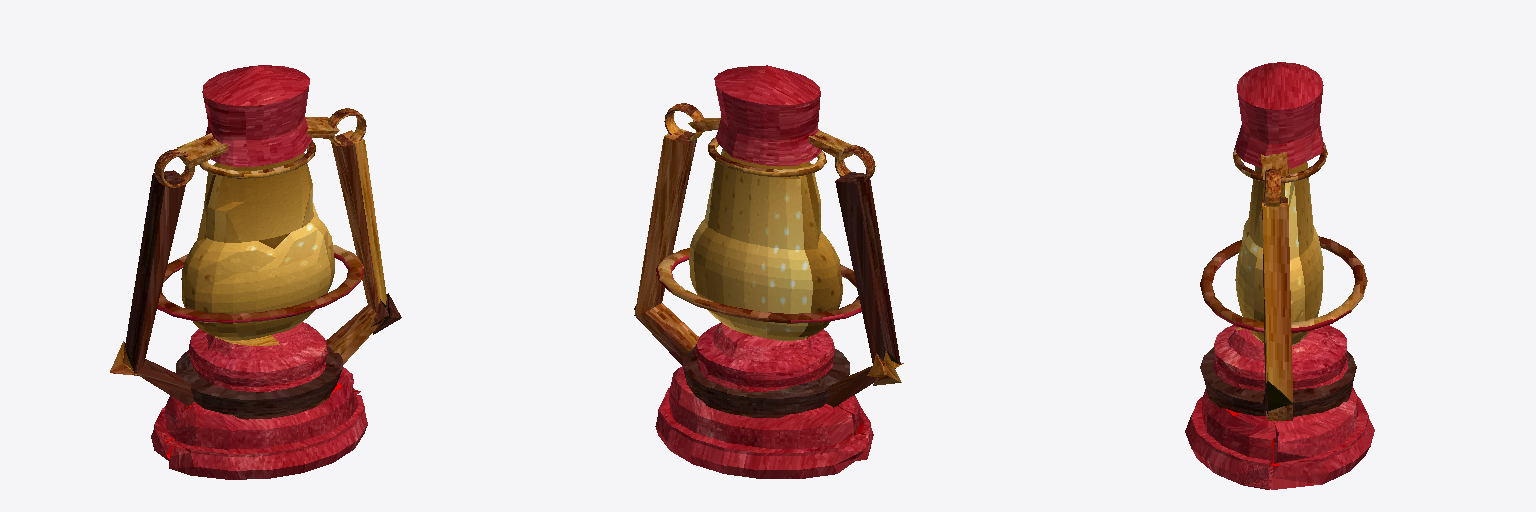
3 renders of one model, left to right at view 1: azimuth 30°, elevation 25°; view 2: azimuth 150°, elevation 25°; view 3: azimuth 270°, elevation 25°, orthographic.
Visible parts, largest first — view 1: bottomoflight inbetween handle1 handle4 glass2, inbetween base2, bottomoflight inbetween handle1 handle4 glass2 metal2 metal3 han, bottomoflight inbetween, bottomoflight inbetween handle1, bottomoflight inbetween handle1 handle4, inbetween, bottomoflight inbetween handle1 handle4 glass2 metal2, bottomoflight inbetween handle1 handle4 glass2 metal2 metal3; view 2: bottomoflight inbetween handle1 handle4 glass2, inbetween base2, bottomoflight inbetween handle1 handle4 glass2 metal2 metal3 han, bottomoflight inbetween handle1, bottomoflight inbetween, bottomoflight inbetween handle1 handle4, inbetween, bottomoflight inbetween handle1 handle4 glass2 metal2, bottomoflight inbetween handle1 handle4 glass2 metal2 metal3; view 3: inbetween base2, bottomoflight inbetween handle1 handle4 glass2 metal2 metal3 han, bottomoflight inbetween handle1 handle4 glass2, bottomoflight inbetween handle1 handle4, bottomoflight inbetween, inbetween, bottomoflight inbetween handle1 handle4 glass2 metal2, bottomoflight inbetween handle1 handle4 glass2 metal2 metal3.
Boxes of the visible parts, <box> form: bottomoflight inbetween handle1 handle4 glass2: <box>181,153,334,340</box>; inbetween base2: <box>151,367,367,479</box>; bottomoflight inbetween handle1 handle4 glass2 metal2 metal3 han: <box>154,65,366,188</box>; bottomoflight inbetween: <box>188,322,327,391</box>; bottomoflight inbetween handle1: <box>110,170,194,405</box>; bottomoflight inbetween handle1 handle4: <box>326,130,401,364</box>; inbetween: <box>176,346,342,419</box>; bottomoflight inbetween handle1 handle4 glass2 metal2: <box>157,245,363,323</box>; bottomoflight inbetween handle1 handle4 glass2 metal2 metal3: <box>199,141,315,178</box>; bottomoflight inbetween handle1 handle4 glass2: <box>689,149,842,340</box>; inbetween base2: <box>655,366,873,478</box>; bottomoflight inbetween handle1 handle4 glass2 metal2 metal3 han: <box>664,65,875,181</box>; bottomoflight inbetween handle1: <box>827,172,903,407</box>; bottomoflight inbetween: <box>695,322,834,391</box>; bottomoflight inbetween handle1 handle4: <box>634,128,698,365</box>; inbetween: <box>683,346,849,418</box>; bottomoflight inbetween handle1 handle4 glass2 metal2: <box>656,248,861,323</box>; bottomoflight inbetween handle1 handle4 glass2 metal2 metal3: <box>708,137,826,176</box>; inbetween base2: <box>1185,386,1374,489</box>; bottomoflight inbetween handle1 handle4 glass2 metal2 metal3 han: <box>1235,62,1323,206</box>; bottomoflight inbetween handle1 handle4 glass2: <box>1235,162,1323,345</box>; bottomoflight inbetween handle1 handle4: <box>1262,198,1296,420</box>; bottomoflight inbetween: <box>1213,325,1347,390</box>; inbetween: <box>1200,347,1356,417</box>; bottomoflight inbetween handle1 handle4 glass2 metal2: <box>1200,236,1367,332</box>; bottomoflight inbetween handle1 handle4 glass2 metal2 metal3: <box>1233,143,1327,182</box>.
Bounding box in the file's own units: 4.82 × 6.25 × 2.83.
Materials: 4 (1 with a texture image).